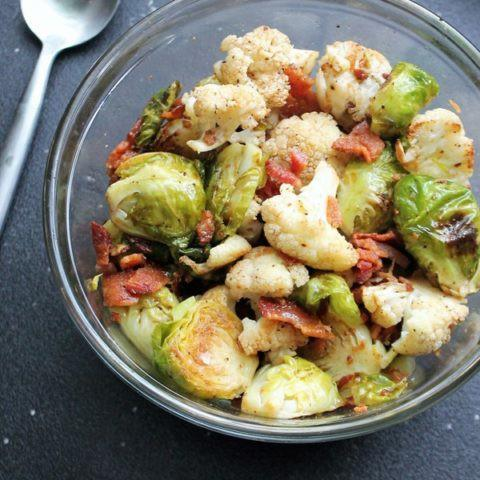AlooGobi: (86, 28, 480, 421)
